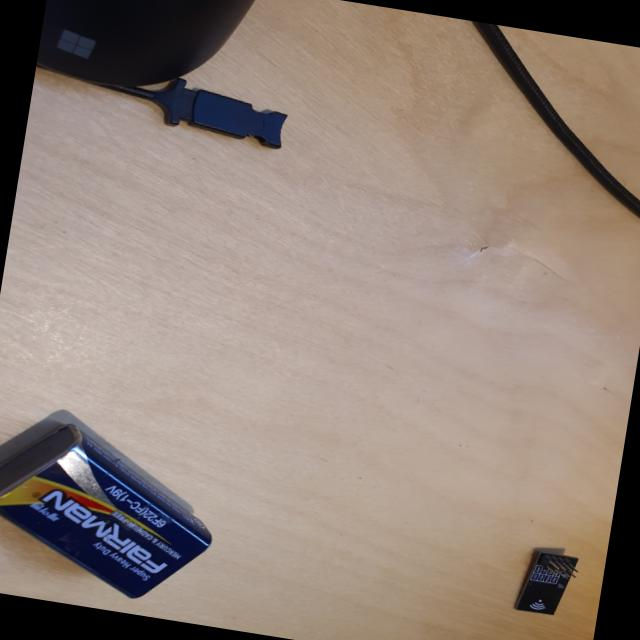battery-etc-etc: (0, 401, 237, 615)
